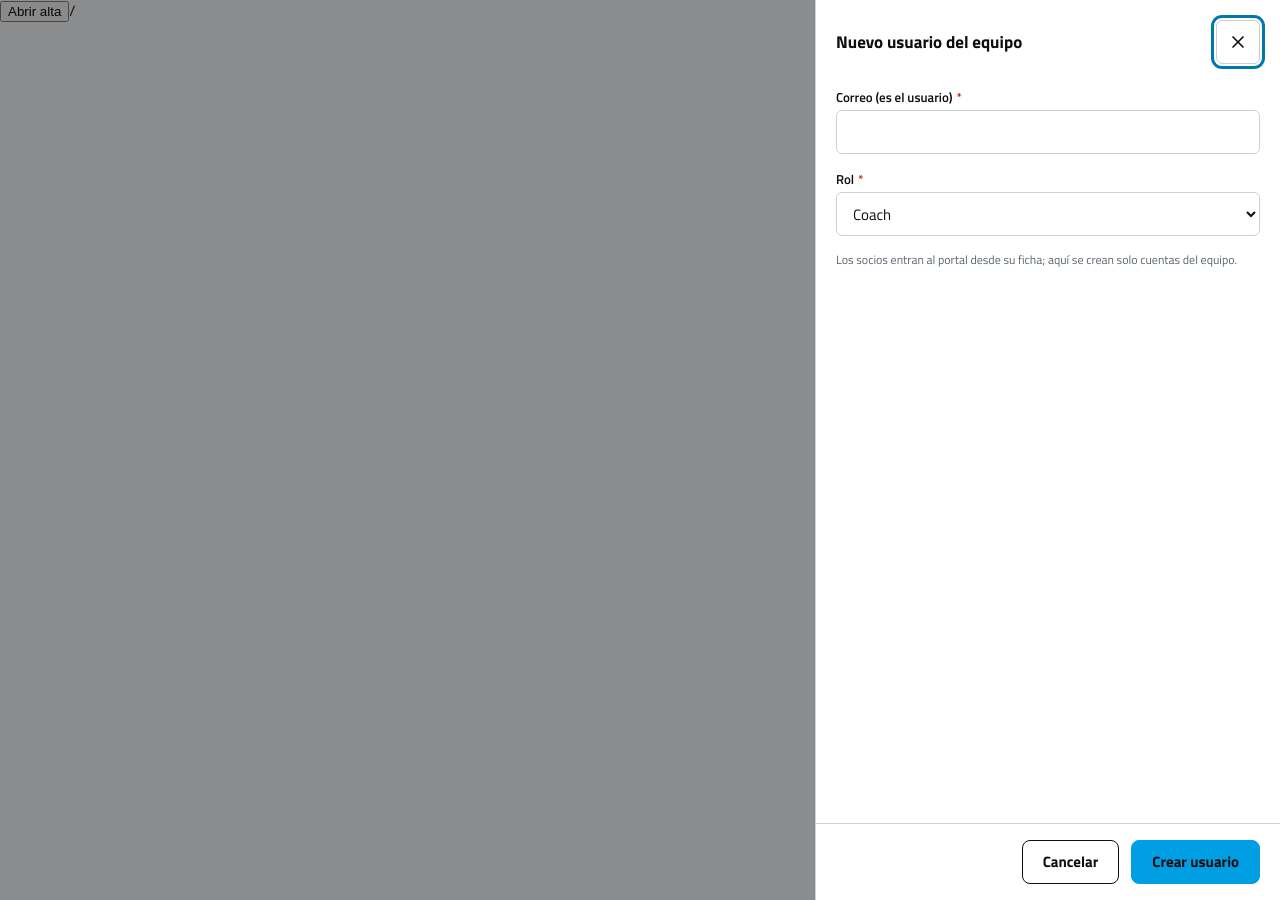
Test case: NewUserPanel · 201 con el enlace de activación › 'Copiar' copia el enlace al portapapeles y lo confirma
The image size is (1280, 900).
Type "carlos@apex.test" into the field labelled "Correo (es el usuario)*" at x=1048, y=132, box [836, 110, 1260, 154]
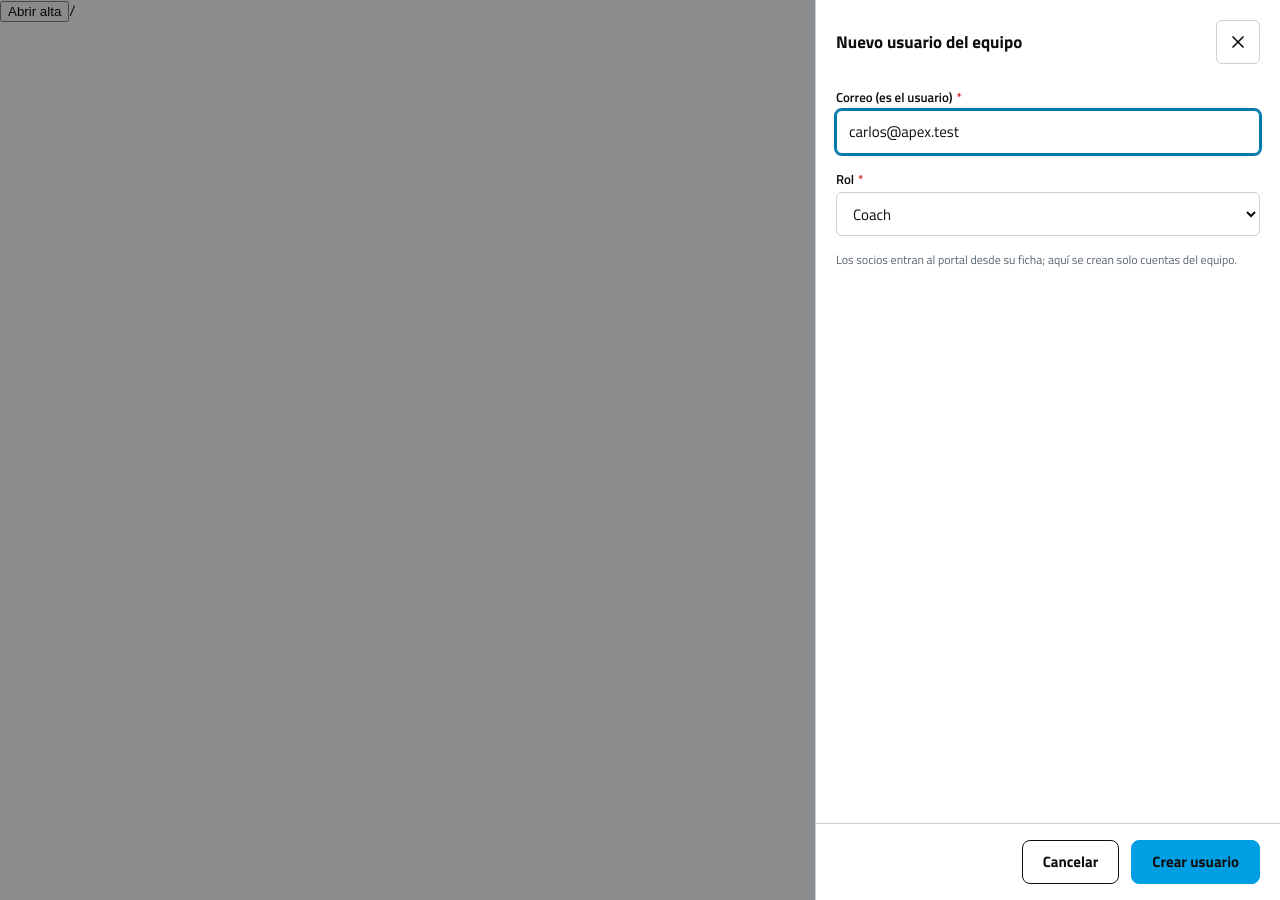
Click the button "Crear usuario" at x=1196, y=862, box [1131, 840, 1260, 884]
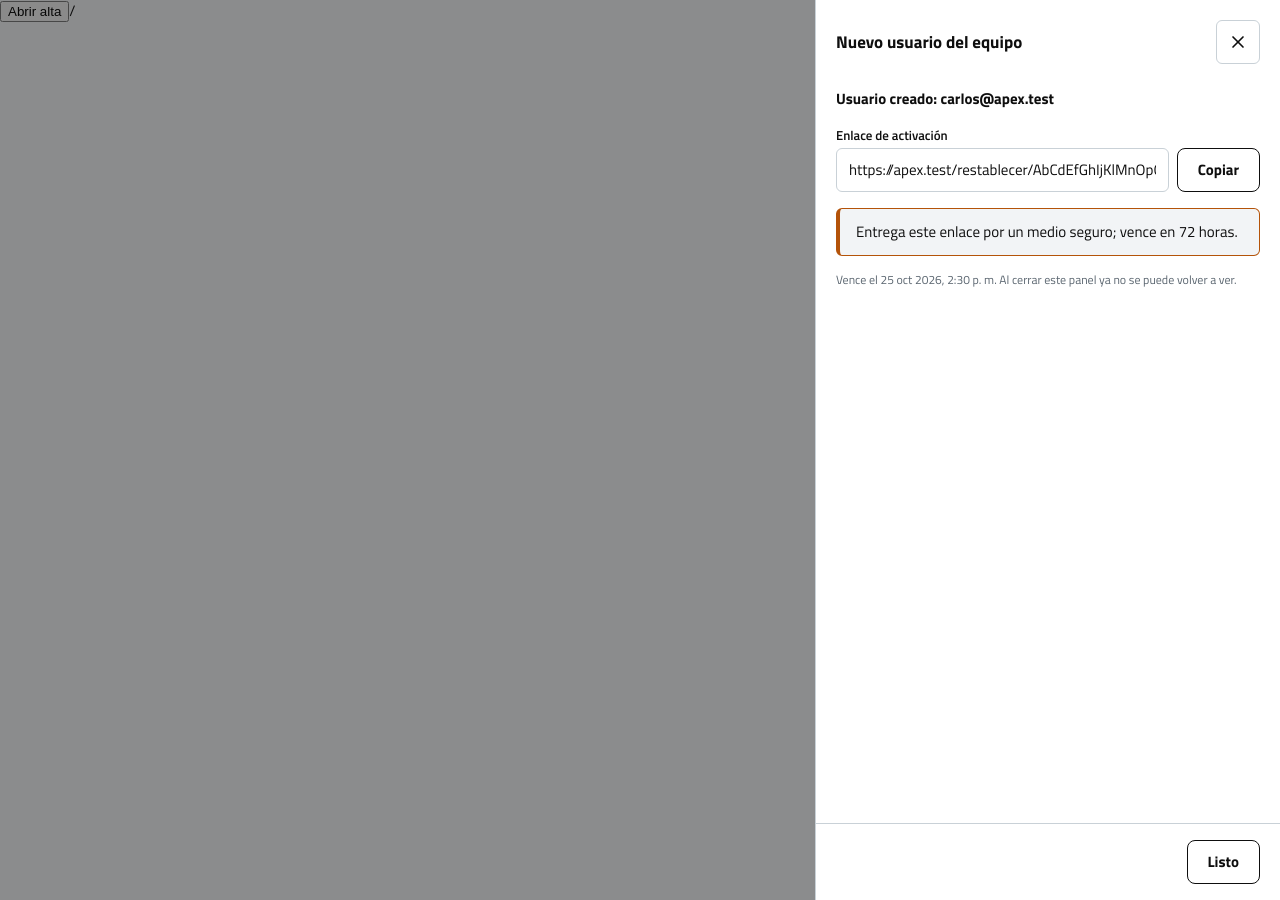
Check: the field labelled "Enlace de activación" is shown, box [836, 148, 1169, 192]
Click the button "Copiar" at x=1218, y=170, box [1177, 148, 1260, 192]
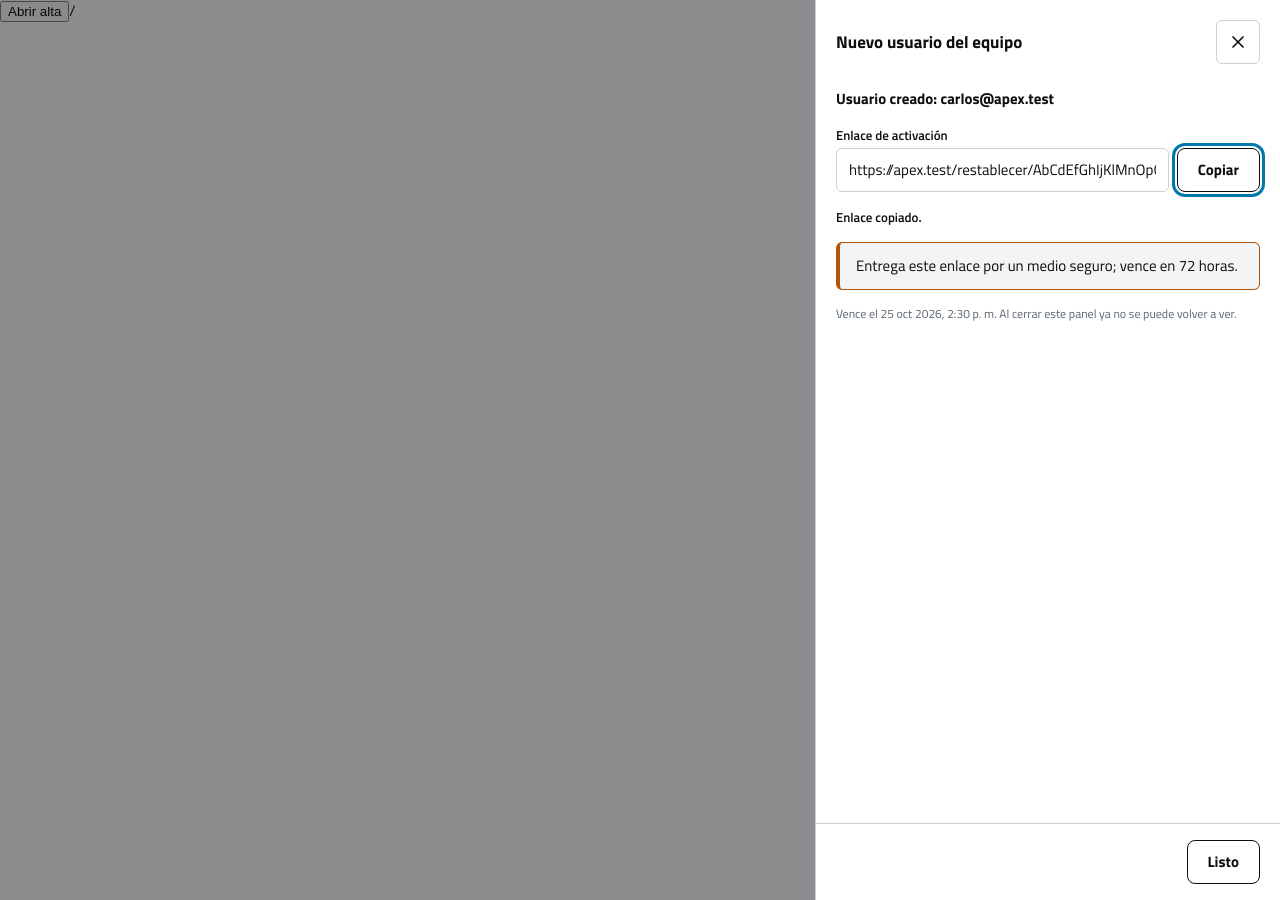
Check: the message reads "Enlace copiado.", box [836, 207, 922, 227]
